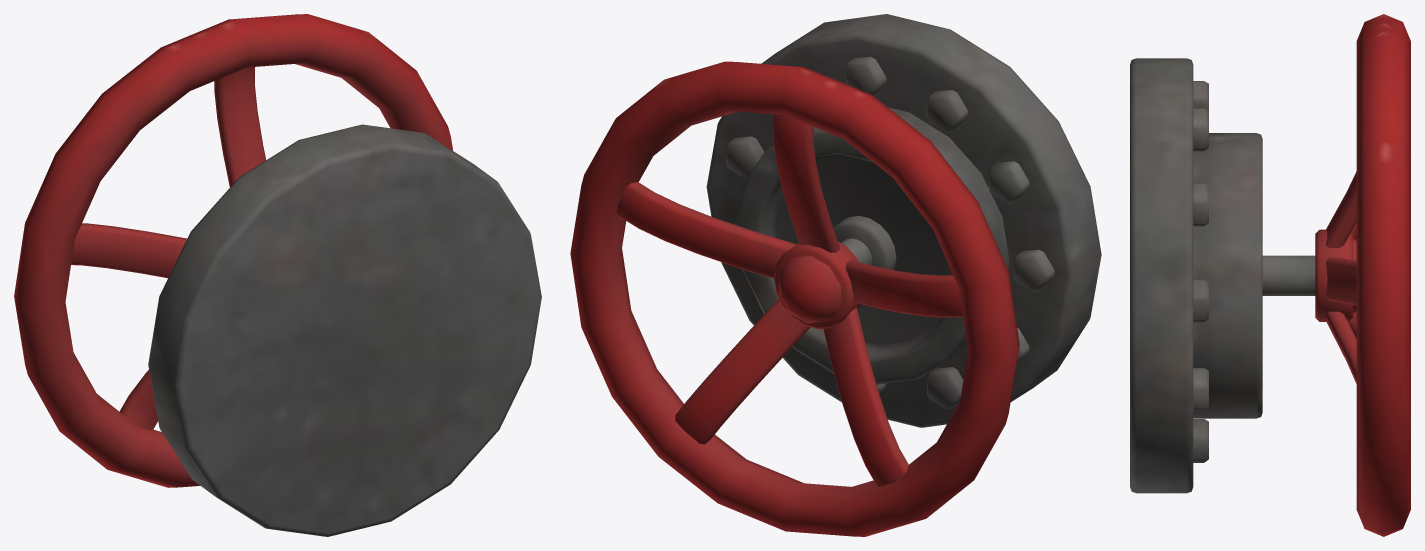
Rendered from manijaBuena.fbx.
The picture shows the model from 3 angles, left to right: view 1: azimuth 30°, elevation 25°; view 2: azimuth 150°, elevation 25°; view 3: azimuth 270°, elevation 25°; orthographic projection. The views are drawn at different scales.
Visible parts, largest first — view 1: Object015; view 2: Object015; view 3: Object015.
Part boxes in pixels (x1,y1,x2,y2): Object015: (14, 14, 541, 536); Object015: (570, 14, 1101, 536); Object015: (1130, 14, 1410, 536).
Size of the model in its own units: 5.37 by 5.37 by 2.86.
Materials: 1 (1 with a texture image).
